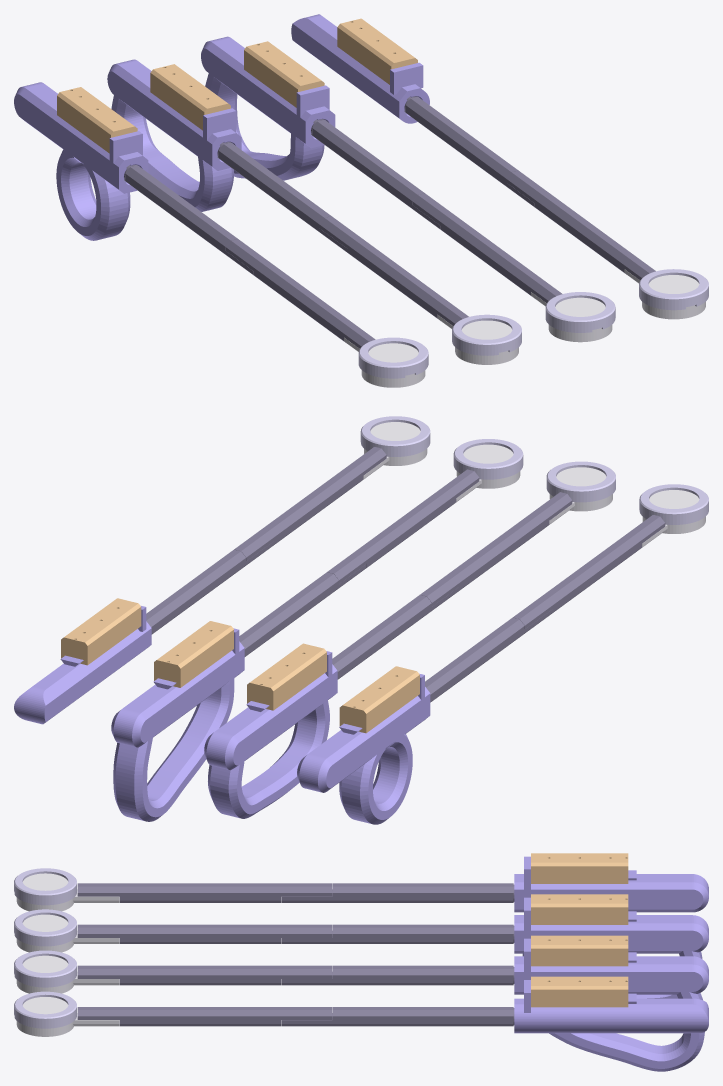
File: assembly.glb
3 renders of one model, top to bottom at view 1: azimuth 30°, elevation 25°; view 2: azimuth 150°, elevation 25°; view 3: azimuth 270°, elevation 25°, orthographic. The views are drawn at different scales.
Visible parts, largest first — view 1: round/handle-round, oval/handle-oval, angled/handle-angled, straight/handle-straight, straight/shaft-upper, oval/shaft-upper, round/shaft-upper, angled/shaft-upper, oval/shaft-lower, straight/shaft-lower, round/shaft-lower, angled/shaft-lower (+16 smaller); view 2: angled/handle-angled, oval/handle-oval, round/handle-round, straight/handle-straight, oval/shaft-upper, angled/shaft-upper, round/shaft-upper, straight/shaft-upper, straight/button-pod-pilot, round/button-pod-pilot, angled/button-pod-pilot, oval/button-pod-pilot (+12 smaller); view 3: angled/handle-angled, straight/handle-straight, oval/handle-oval, round/handle-round, angled/shaft-upper, round/shaft-upper, oval/shaft-upper, straight/shaft-upper, angled/shaft-lower, round/shaft-lower, straight/shaft-lower, oval/shaft-lower (+16 smaller).
Boxes of the visible parts, x1,y1,x2,y2 form: round/handle-round: (14, 82, 148, 240); oval/handle-oval: (107, 59, 241, 211); angled/handle-angled: (201, 36, 335, 180); straight/handle-straight: (291, 14, 429, 123); straight/shaft-upper: (506, 170, 655, 280); oval/shaft-upper: (319, 216, 468, 325); round/shaft-upper: (226, 239, 375, 348); angled/shaft-upper: (413, 193, 562, 302); oval/shaft-lower: (217, 142, 349, 254); straight/shaft-lower: (404, 96, 536, 208); round/shaft-lower: (124, 165, 256, 277); angled/shaft-lower: (311, 119, 443, 231); angled/handle-angled: (111, 628, 244, 821); oval/handle-oval: (204, 651, 337, 818); round/handle-round: (297, 673, 430, 824); straight/handle-straight: (14, 606, 151, 724); oval/shaft-upper: (420, 492, 572, 606); angled/shaft-upper: (327, 469, 479, 583); round/shaft-upper: (513, 515, 665, 628); straight/shaft-upper: (234, 447, 386, 561); straight/button-pod-pilot: (61, 598, 141, 665); round/button-pod-pilot: (339, 666, 419, 733); angled/button-pod-pilot: (154, 621, 233, 687); oval/button-pod-pilot: (247, 643, 326, 710); angled/handle-angled: (514, 938, 708, 1071); straight/handle-straight: (514, 980, 708, 1033); oval/handle-oval: (514, 897, 708, 998); round/handle-round: (514, 856, 708, 912); angled/shaft-upper: (77, 965, 331, 985); round/shaft-upper: (77, 883, 331, 902); oval/shaft-upper: (77, 924, 331, 943); straight/shaft-upper: (77, 1007, 331, 1026); angled/shaft-lower: (282, 965, 514, 985); round/shaft-lower: (282, 883, 514, 902); straight/shaft-lower: (282, 1007, 514, 1026); oval/shaft-lower: (282, 924, 514, 943).
Size of the model in its own units: 0.2554 by 0.1011 by 0.5.
